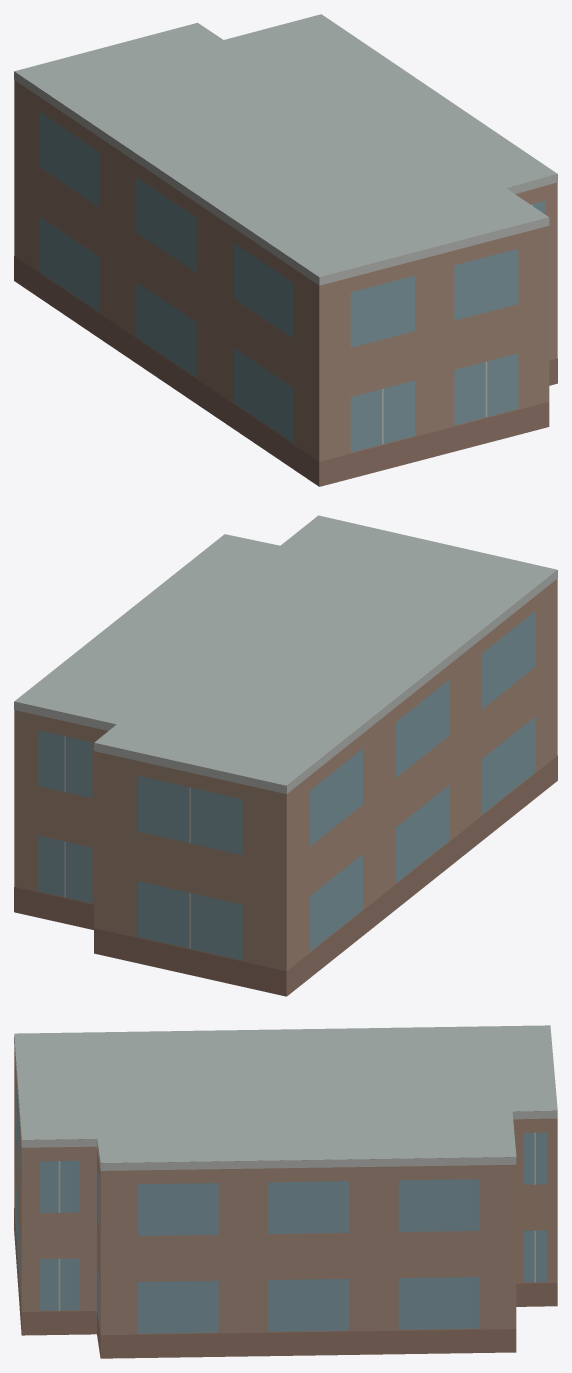
File: survey-upis-32686052.glb
3 views of the same model, one above another, from view 1: azimuth 30°, elevation 25°; view 2: azimuth 150°, elevation 25°; view 3: azimuth 270°, elevation 25° (orthographic). The views are drawn at different scales.
Parts seen in each view (by area): view 1: survey-upis-32686052.tmp; view 2: survey-upis-32686052.tmp; view 3: survey-upis-32686052.tmp.
Boxes of the visible parts, x1=… form: survey-upis-32686052.tmp: x1=14, y1=14, x2=557, y2=486; survey-upis-32686052.tmp: x1=14, y1=515, x2=557, y2=996; survey-upis-32686052.tmp: x1=14, y1=1025, x2=557, y2=1358.
Bounding box in the file's own units: 9.23 × 6.1 × 15.39.
